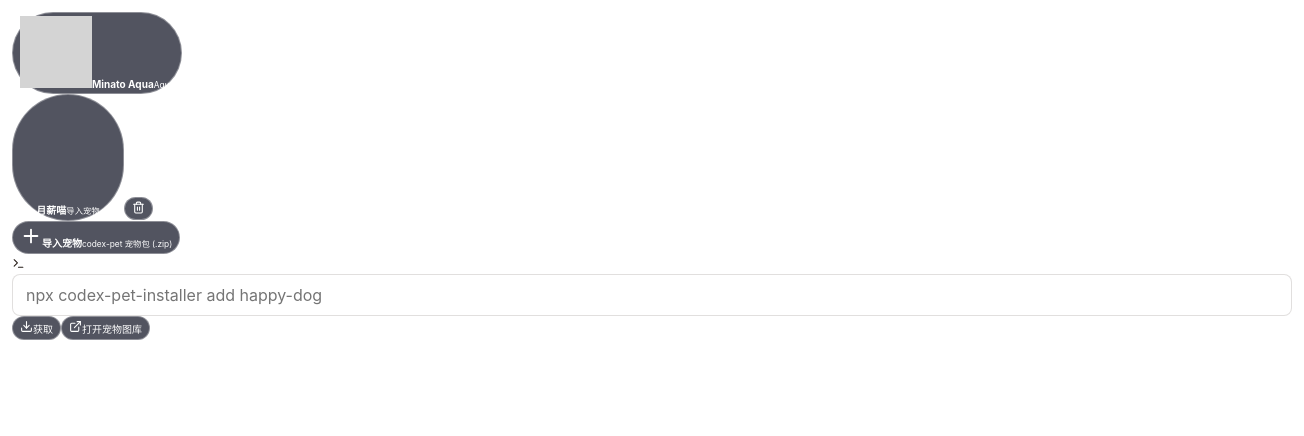
Test case: PetThemeGrid removal › keeps the removal-failure notice localized with the raw error as detail (zh)
Click the button named "移除". click: (138,208)
box: [124,197,153,220]
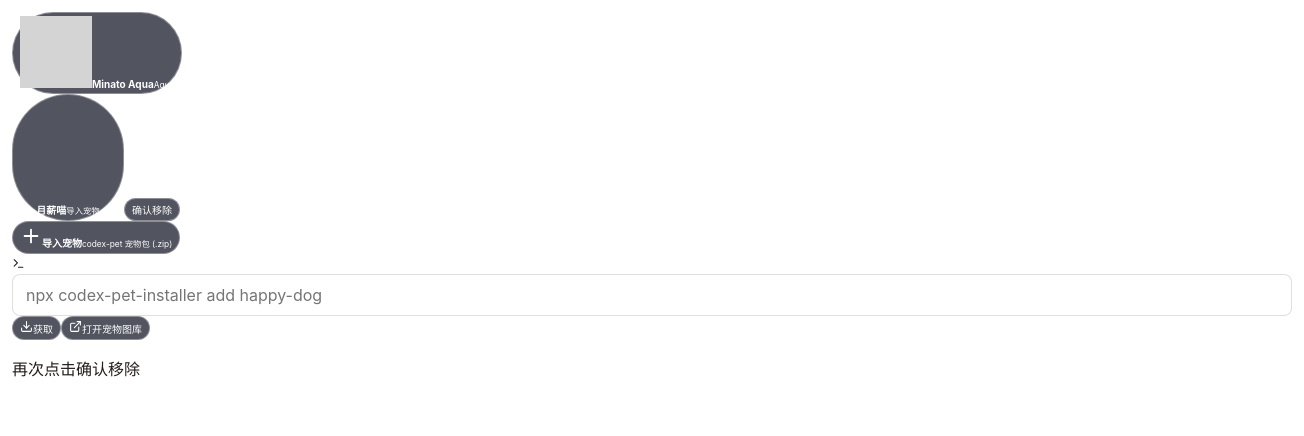
Click the button "确认移除". click: (152,210)
box: [124,198,180,221]
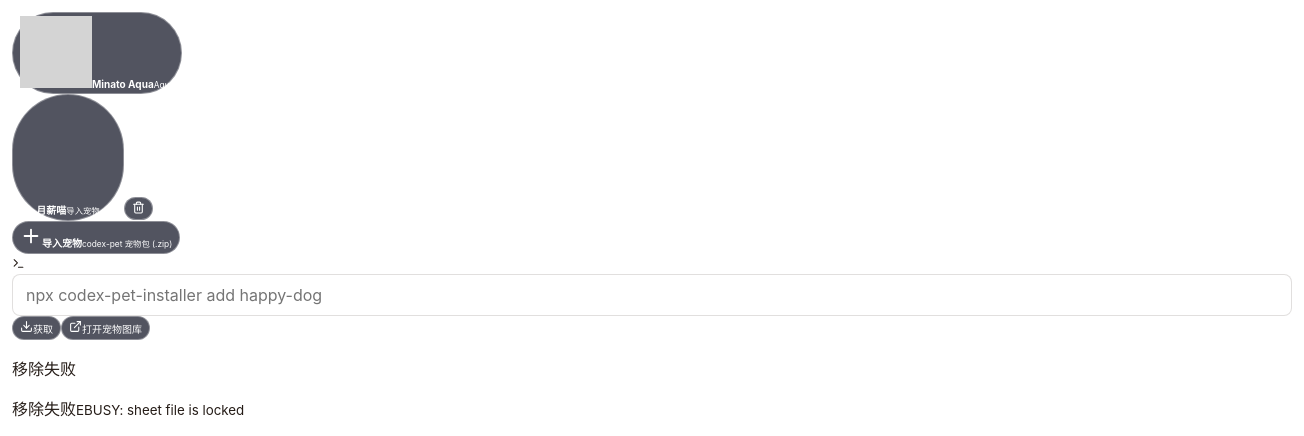
Expected: the element that starts with "移除失败" is shown, [12,399,76,419]
Expected: the text "EBUSY: sheet file is locked" is shown, [76,402,244,418]
